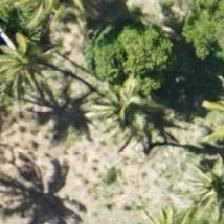coconut_tree: (80, 57, 170, 147), (0, 2, 69, 92), (172, 142, 223, 223)
